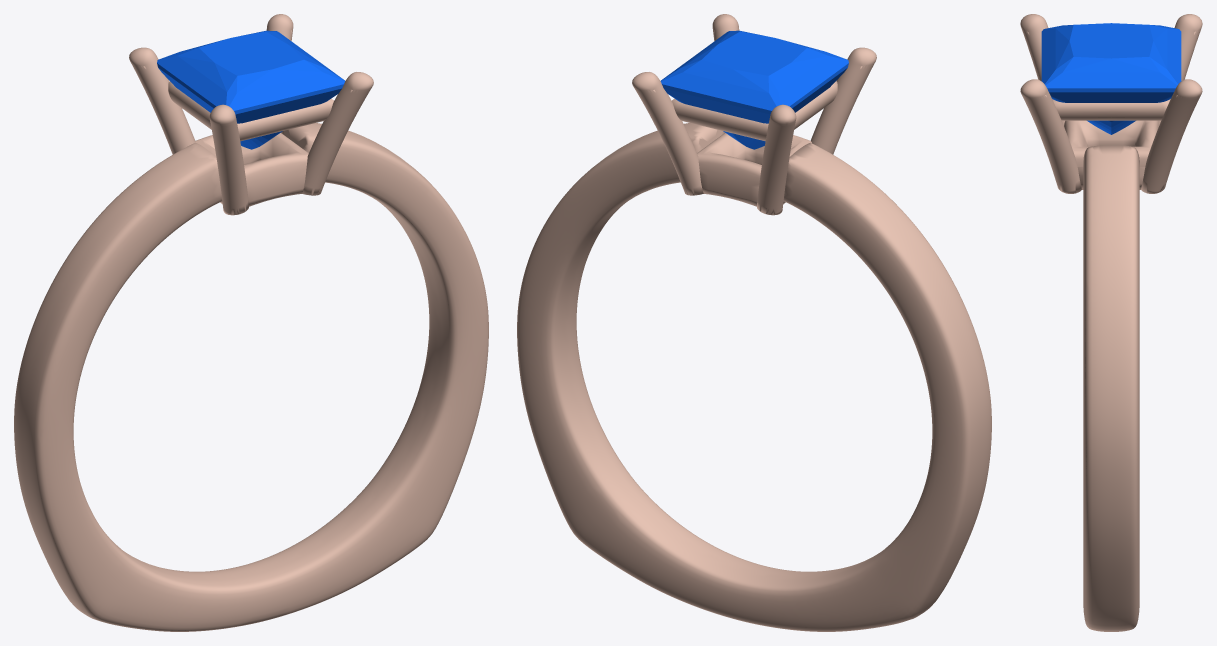
File: bluesapphire-princess-rosegold-4prong-europeanshank-solitaire.glb
3 views of the same model, side by side, from view 1: azimuth 30°, elevation 25°; view 2: azimuth 150°, elevation 25°; view 3: azimuth 270°, elevation 25° (orthographic).
Parts seen in each view (by area): view 1: metal, stone; view 2: metal, stone; view 3: metal, stone.
Boxes of the visible parts, bbox=[...] form: metal: bbox=[14, 14, 488, 631]; stone: bbox=[157, 30, 345, 149]; metal: bbox=[517, 14, 991, 631]; stone: bbox=[660, 30, 848, 149]; metal: bbox=[1020, 14, 1202, 631]; stone: bbox=[1041, 23, 1181, 134].
Bounding box in the file's own units: 20.11 × 23.65 × 7.08.
